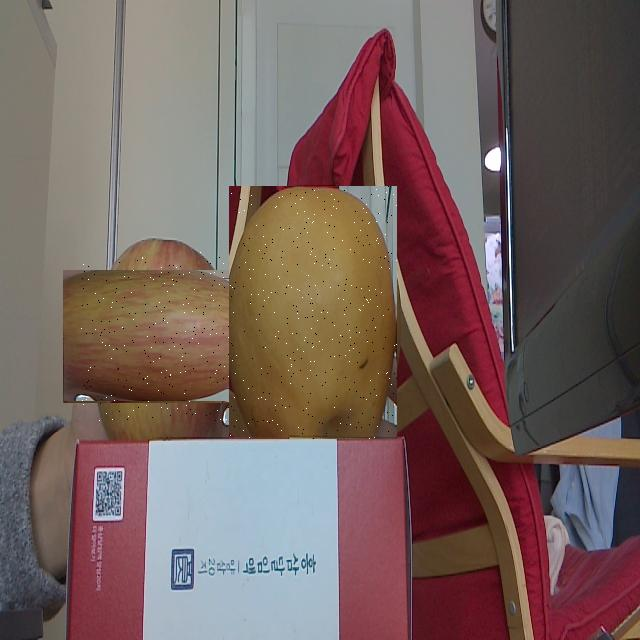apple: (80, 252, 249, 421)
pear: (229, 186, 397, 439)
